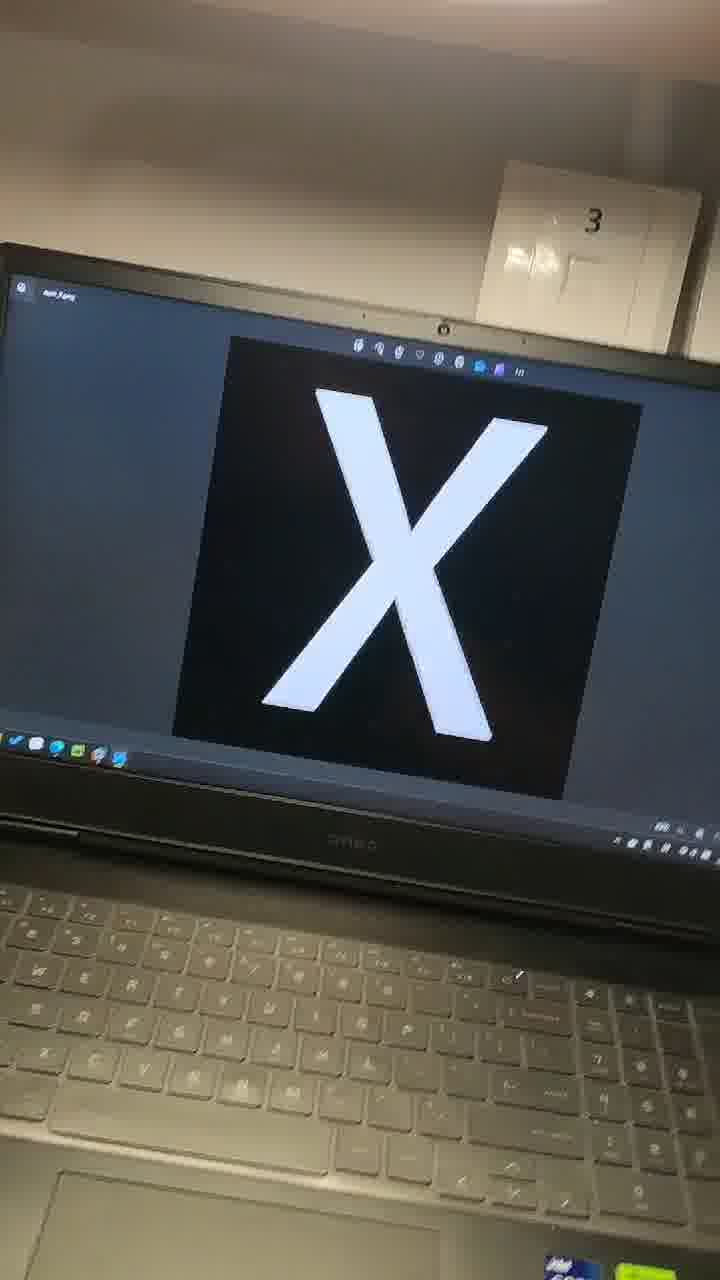X: (208, 365, 605, 809)
